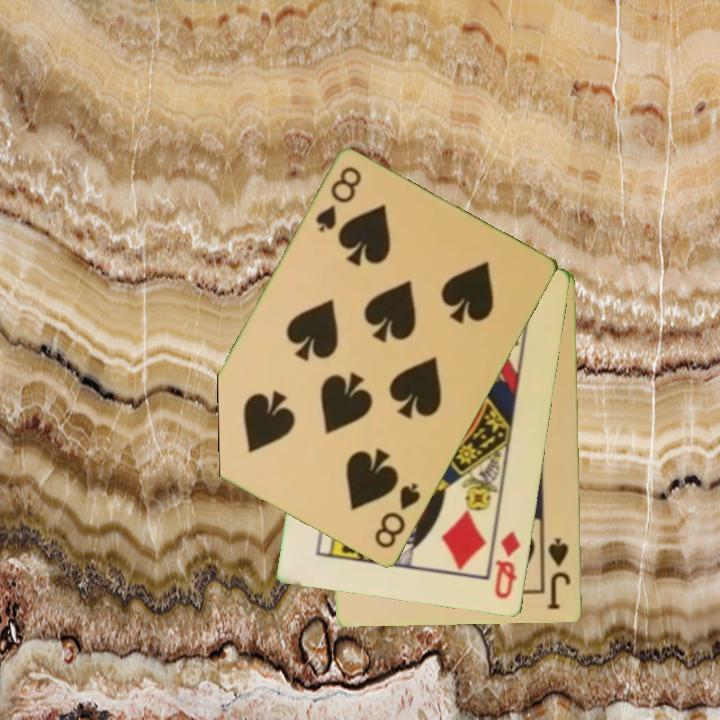8s: (311, 163, 365, 236), (371, 479, 424, 552)
Js: (544, 535, 574, 613)
Qd: (491, 527, 523, 602)
